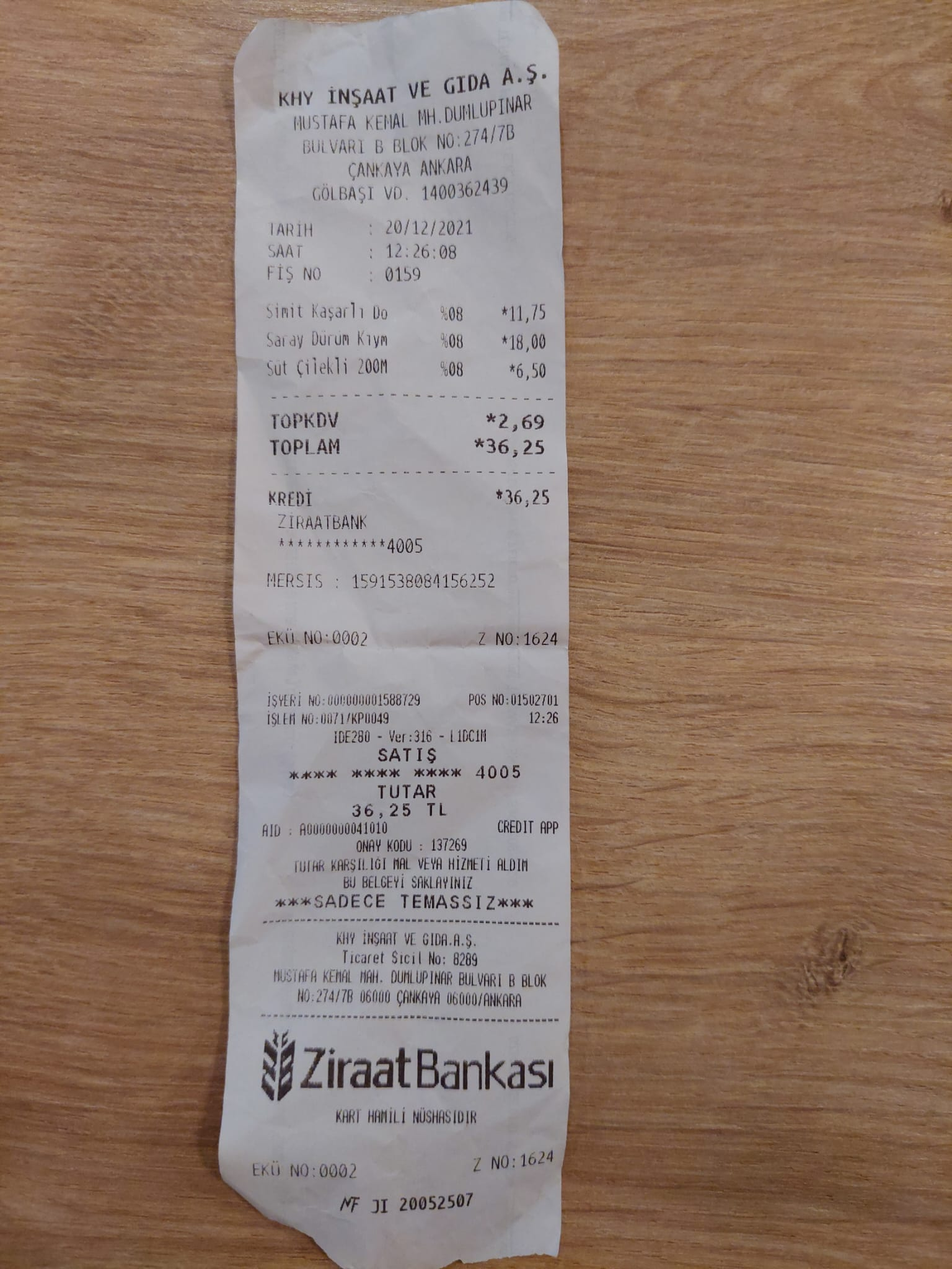date: (481, 435, 550, 464)
price: (381, 214, 481, 243)
workplace: (260, 59, 556, 180)
